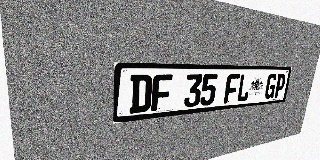3: (183, 74, 203, 108)
5: (200, 74, 218, 106)
D: (129, 74, 153, 114)
F: (151, 74, 173, 111), (223, 74, 240, 104)
G: (264, 74, 278, 99)
L: (236, 74, 252, 102)
P: (273, 74, 287, 98)
